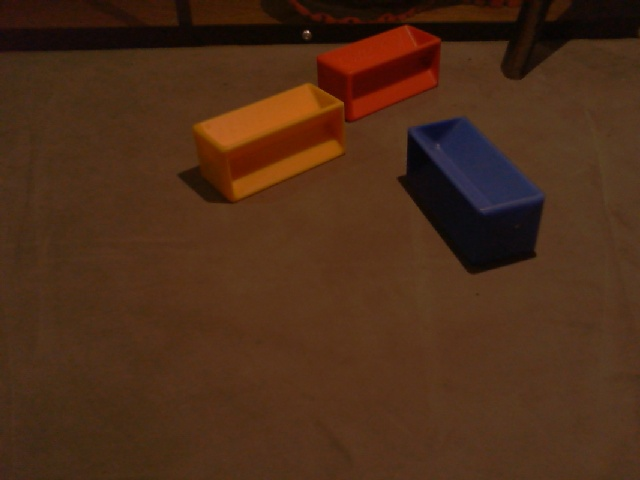BlueSample: (404, 114, 547, 269)
RedSample: (315, 21, 441, 121)
YellowSample: (190, 82, 347, 206)
